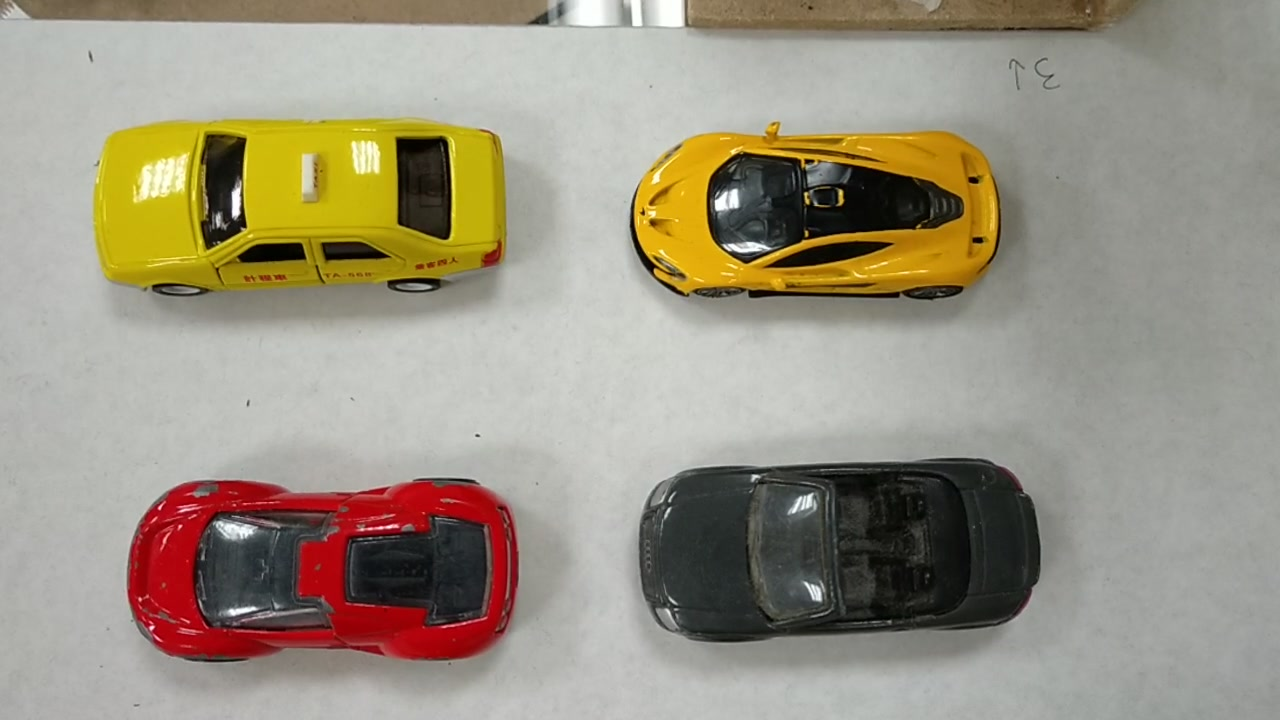car: (120, 480, 526, 677), (84, 118, 509, 291), (639, 466, 1043, 641), (631, 122, 1006, 307)
